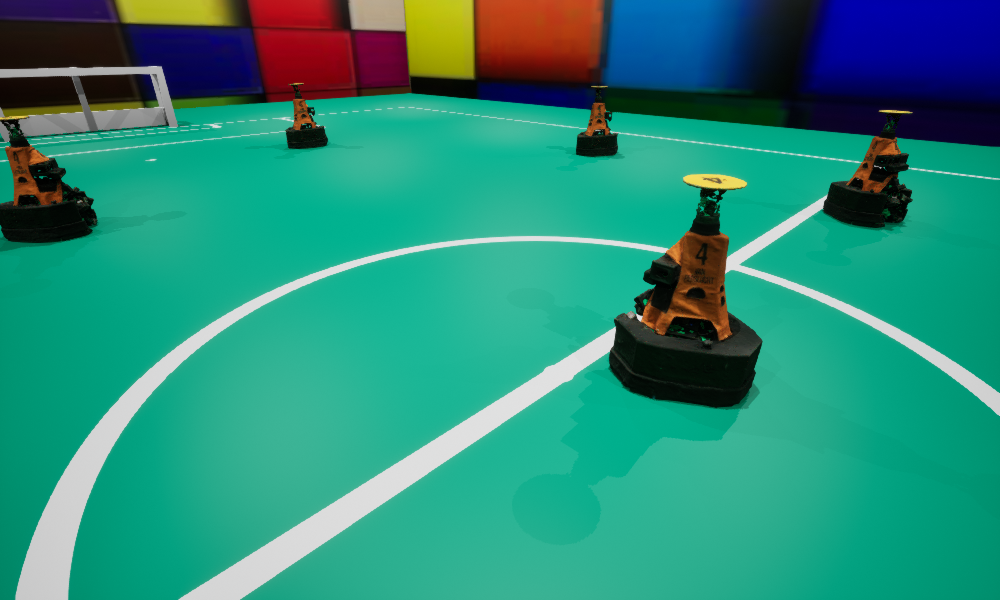0 orange robot TechUnited: (609, 174, 762, 407), (0, 116, 97, 242), (823, 110, 912, 227), (576, 86, 617, 156), (285, 83, 327, 148)
